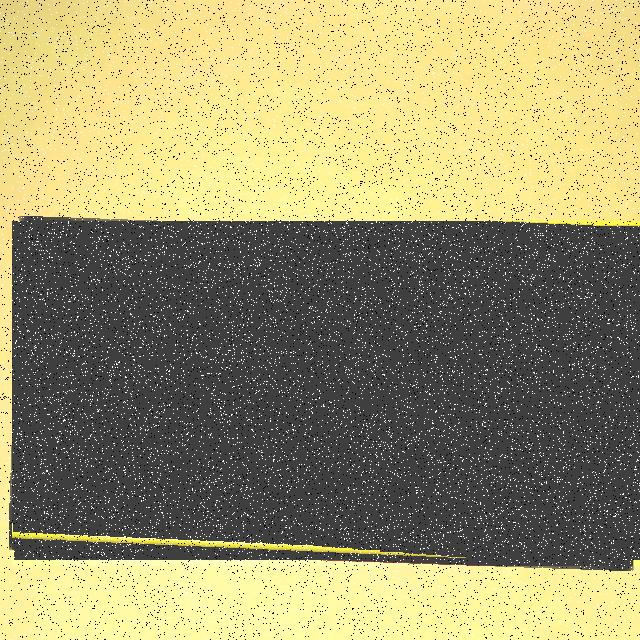dua puluh ribu rupiah: (12, 221, 640, 566)
